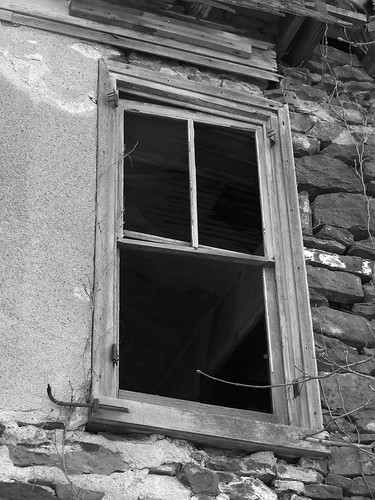window: (88, 81, 298, 448)
